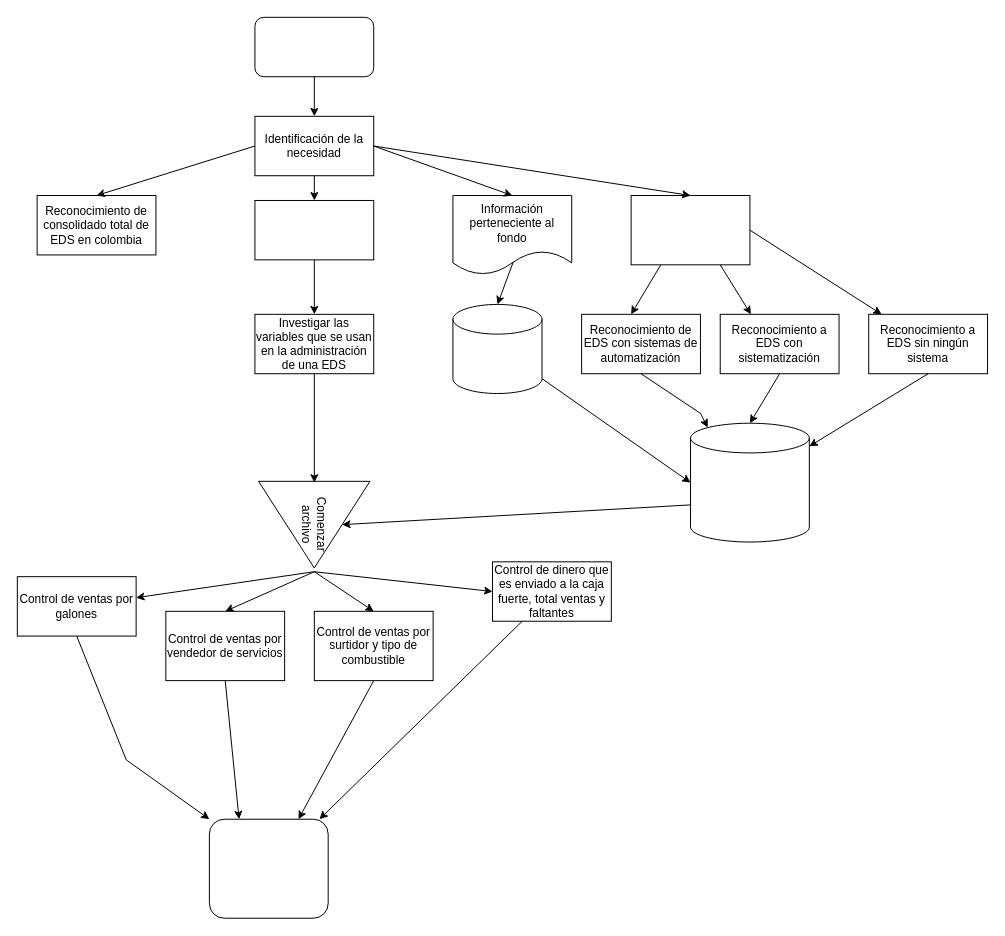
This 1005x936 diagram has some shape labels left out. Here are the shapes that lost their labels. From the top down, the centre of each, then its label:
(314,46): Hoja de calculo para registro de compras y ventas en la estación
(314,229): Identificación de variables para la administración de la EDS
(690,230): Reconocimiento virtual y presencial a EDS
(497,348): Uso de las bases de datos e información recopilada por los asesores
(749,482): Generar una base de datos, que se alimentrará a través del tiempo
(268,868): Entrega de documento para la administración a EDS completamente funcional
